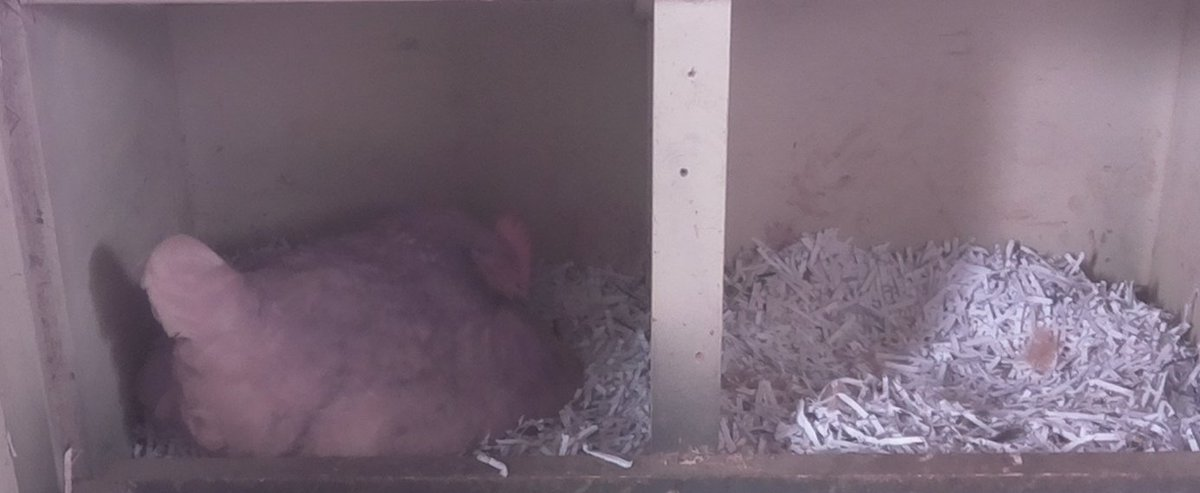hen: (133, 199, 593, 458)
